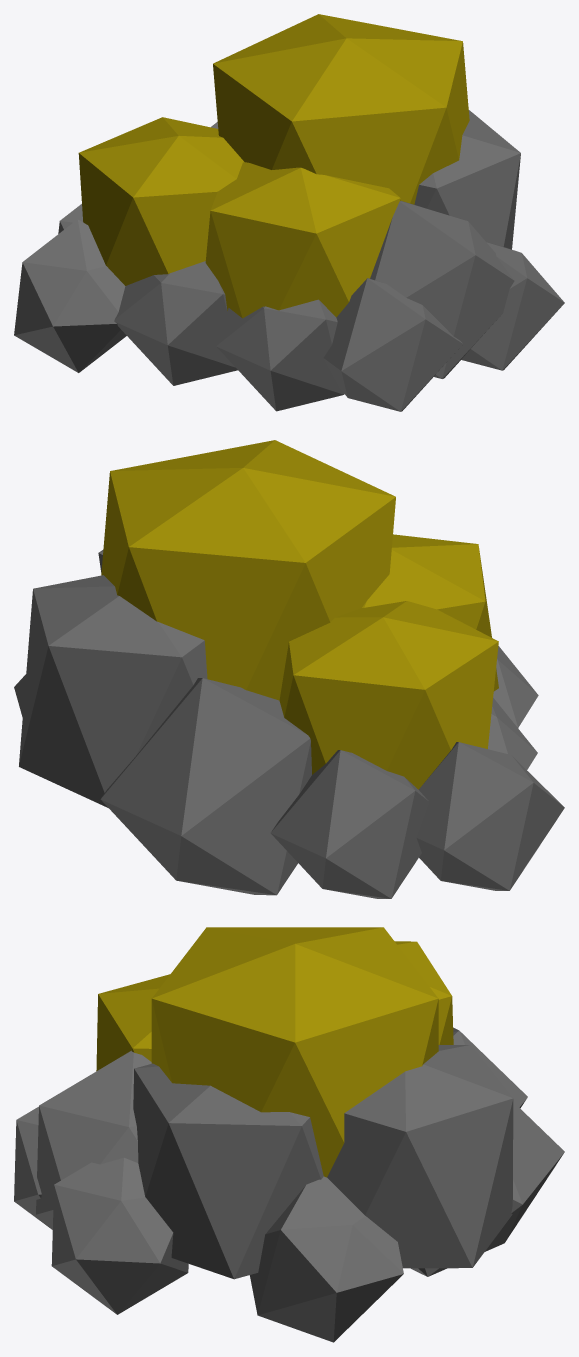
The model's file is Gold_ore.fbx.
The picture shows the model from 3 angles, top to bottom: view 1: azimuth 30°, elevation 25°; view 2: azimuth 150°, elevation 25°; view 3: azimuth 270°, elevation 25°; orthographic projection. The views are drawn at different scales.
Visible parts, largest first — view 1: Gold; view 2: Gold; view 3: Gold.
Part boxes in pixels (box(x1,y1,x2,y2)): Gold: box(14, 14, 564, 411); Gold: box(14, 440, 564, 898); Gold: box(14, 927, 564, 1342).
Bounding box in the file's own units: 362 × 235 × 327.
